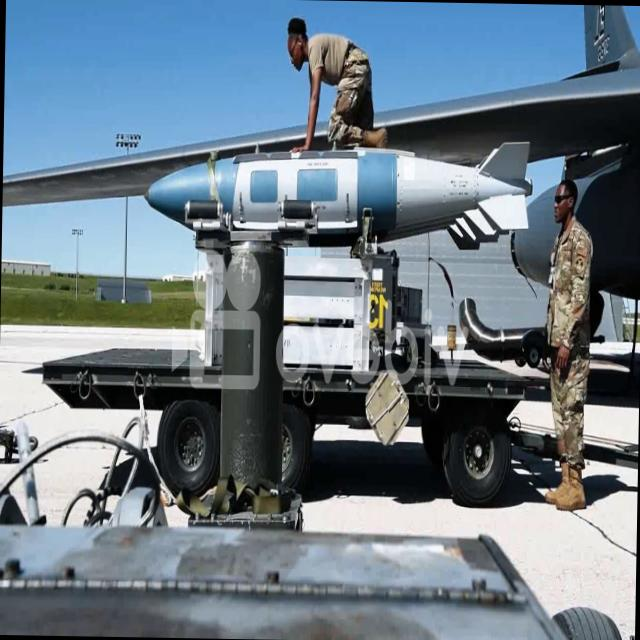rocket: (140, 125, 537, 255)
